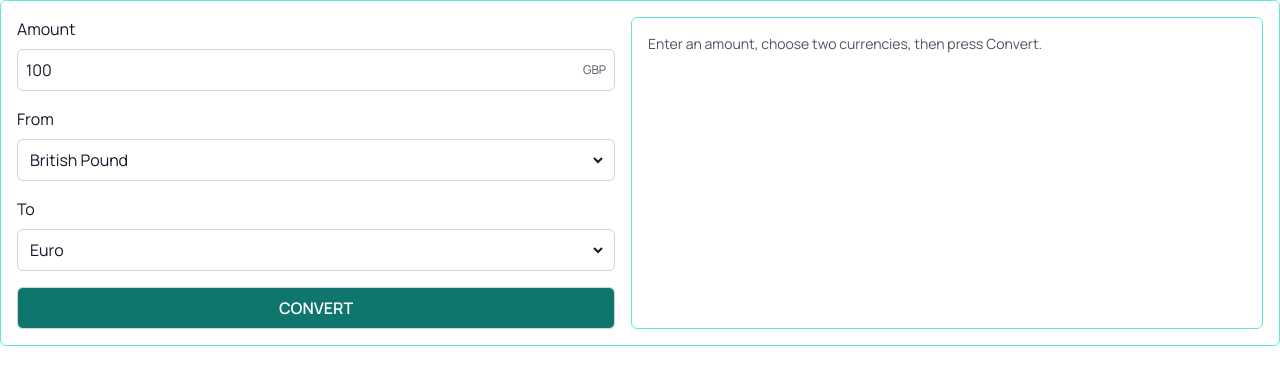
Scenario: CurrencyForm › shows an error when the amount is zero
The width and height of the screenshot is (1280, 391).
Expected: the dropdown labelled "From" is shown, 26,148 -> 606,172
Replace the text in the field labelled "Amount" with "0" at (298, 70), box 26,58 -> 571,82
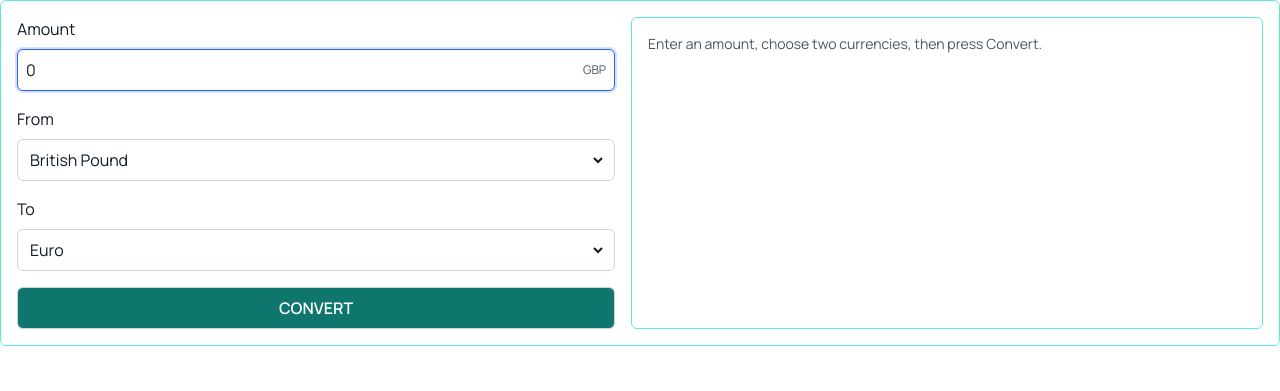
Click the button "CONVERT" at (316, 308), box 17,287 -> 615,329
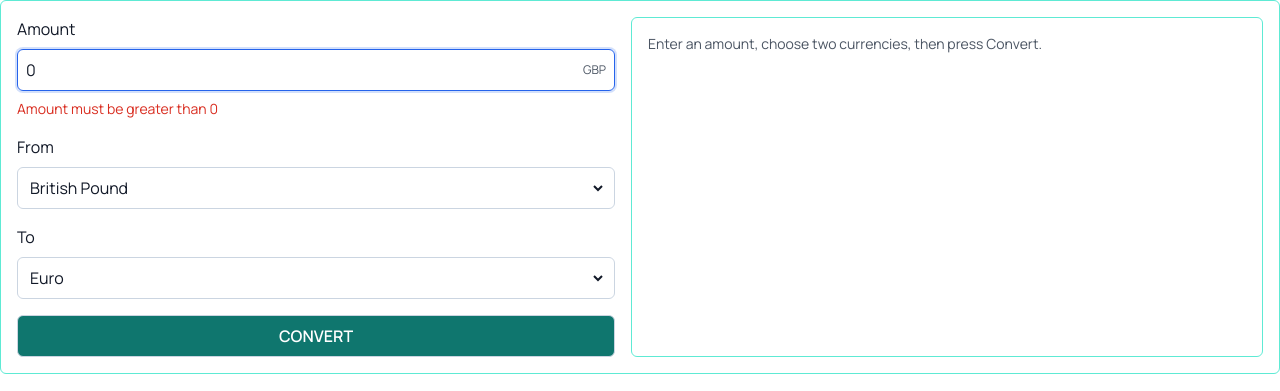
Expected: the text "Amount must be greater than 0" is shown, 17,99 -> 218,118
